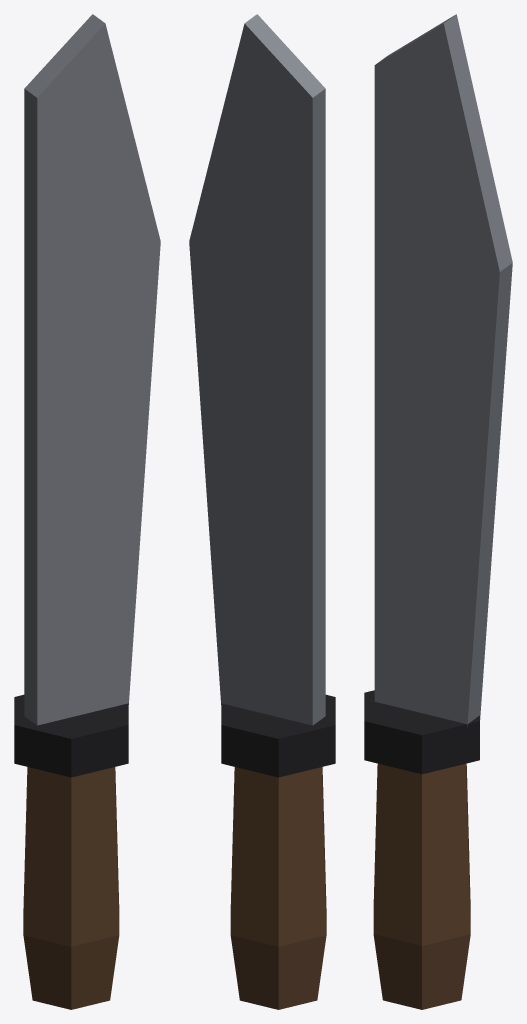
File: T2_mida_knife_a.glb
3 views of the same model, side by side, from view 1: azimuth 30°, elevation 25°; view 2: azimuth 150°, elevation 25°; view 3: azimuth 330°, elevation 25° (orthographic).
Visible parts, largest first — view 1: T2_mida_knife_a; view 2: T2_mida_knife_a; view 3: T2_mida_knife_a.
Part boxes in pixels (x1,y1,x2,y2): T2_mida_knife_a: [14, 14, 160, 1009]; T2_mida_knife_a: [189, 14, 335, 1009]; T2_mida_knife_a: [364, 14, 512, 1009].
Bounding box in the file's own units: 0.076 × 0.5 × 0.0537.
